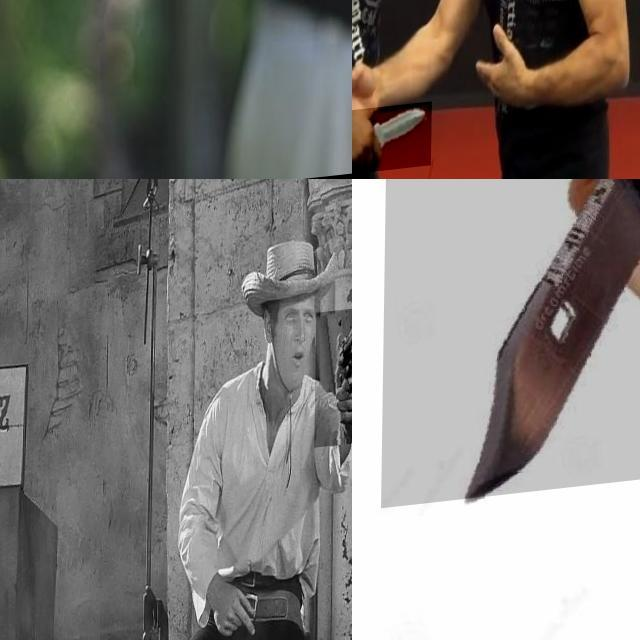-: (382, 179, 640, 509), (0, 0, 294, 94), (352, 108, 433, 179)
gun-knife-thesis - v11 Yolov5 augmented: (315, 315, 352, 456)
